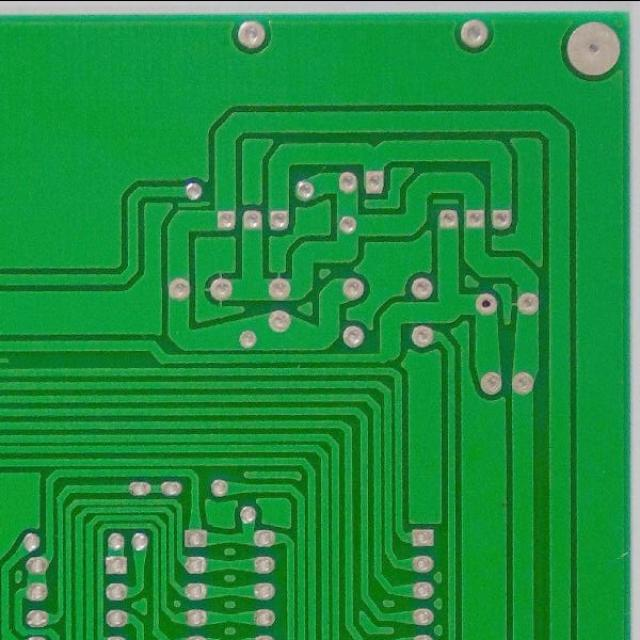Missing_Hole: (474, 291, 499, 316)
Spurious_Cooper: (175, 197, 212, 210), (429, 195, 461, 207), (0, 353, 13, 367)
